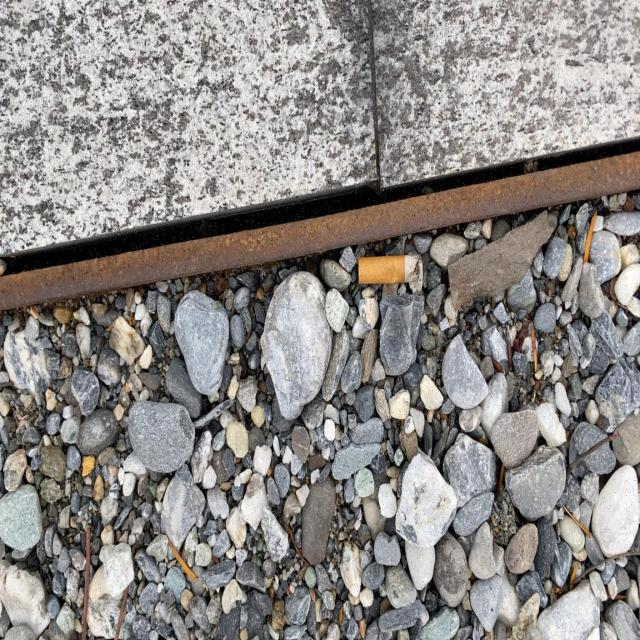other waste: (358, 254, 421, 285)
